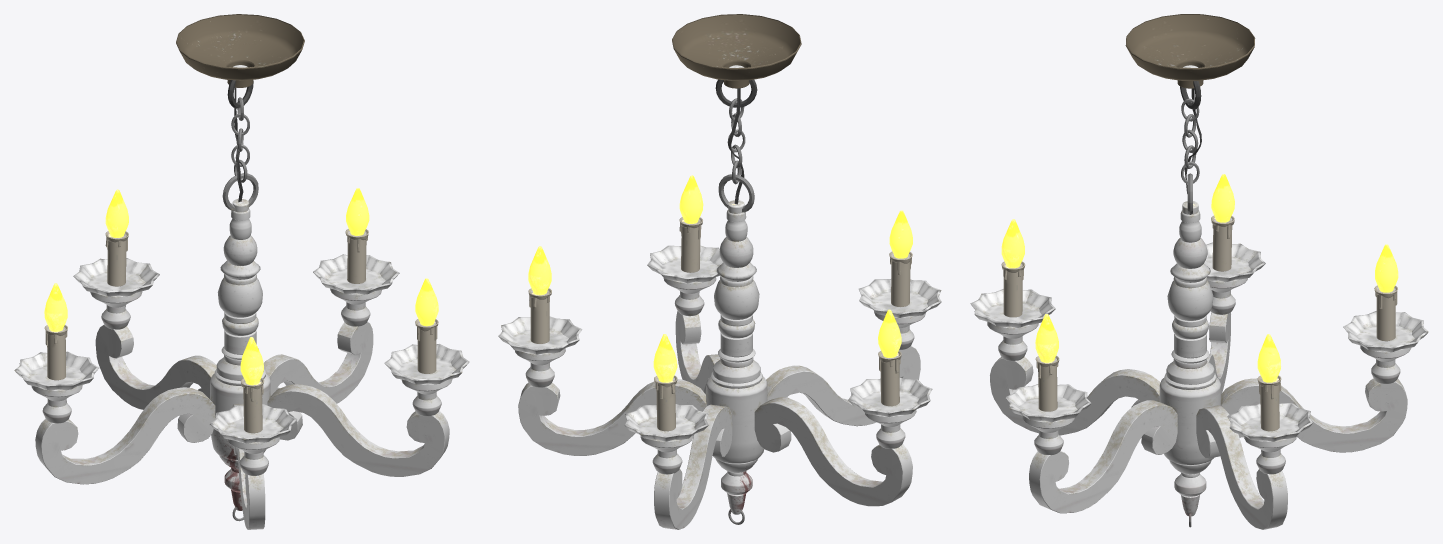
The model's file is chandelier7.glb.
3 views of the same model, side by side, from view 1: azimuth 30°, elevation 25°; view 2: azimuth 150°, elevation 25°; view 3: azimuth 270°, elevation 25° (orthographic).
Parts seen in each view (by area): view 1: polySurface323; view 2: polySurface323; view 3: polySurface323.
Boxes of the visible parts, left/top/right/bottom form: polySurface323: left=14, top=14, right=469, bottom=529; polySurface323: left=498, top=14, right=941, bottom=529; polySurface323: left=970, top=14, right=1428, bottom=529.
Bounding box in the file's own units: 7.03 × 8.13 × 6.96.
Materials: 1 (1 with a texture image).
